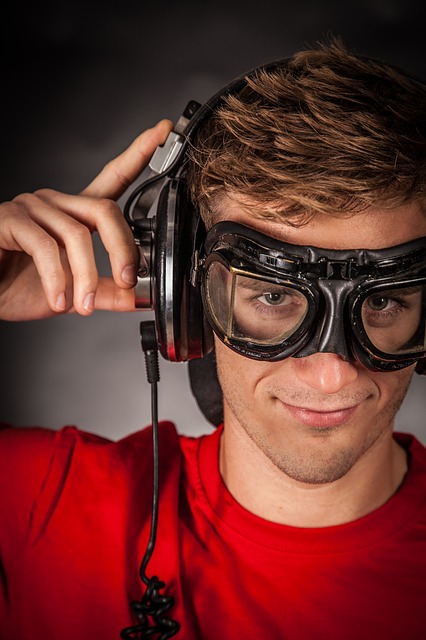headphones: (125, 57, 296, 363)
